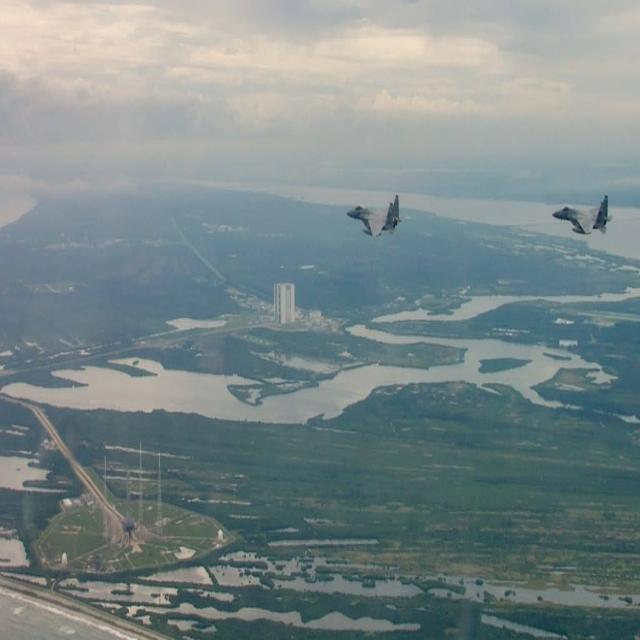MIL_Plane: (346, 194, 407, 239), (552, 194, 614, 235)
